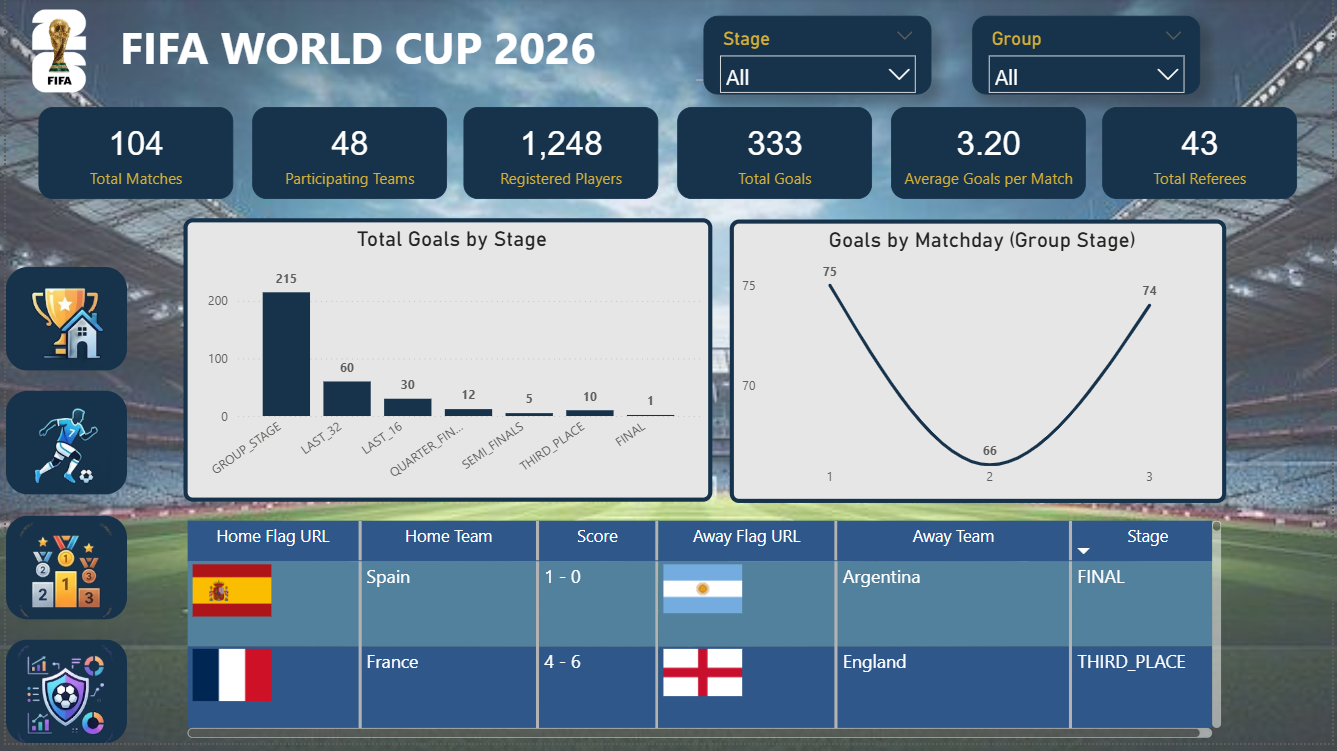

This screenshot's page, from the dashboard's own definition file:
{"tool":"powerbi","page":{"name":"Tournament Overview","canvas":[1280,720],"ordinal":1},"visuals":[{"type":"card","fields":{"Values":["My Measures.Total Matches"]},"box":[31.4,106.2,188.2,89],"z":0},{"type":"card","fields":{"Values":["My Measures.Total Goals"]},"box":[647.9,106.2,188.2,89],"z":1000},{"type":"card","fields":{"Values":["My Measures.Average Goals per Match"]},"box":[854.2,106.2,188.2,89],"z":2000},{"type":"card","fields":{"Values":["My Measures.Participating Teams"]},"box":[237.7,106.2,188.2,89],"z":3000},{"type":"card","fields":{"Values":["My Measures.Registered Players"]},"box":[441.6,106.2,188.2,89],"z":4000},{"type":"image","box":[0,12.1,102.5,79.6],"z":5000},{"type":"textbox","title":" FIFA WORLD CUP 2026","box":[0,18.1,679.2,67.6],"z":6000},{"type":"card","fields":{"Values":["My Measures.Total Referees"]},"box":[1058,106.2,188.2,89],"z":7000},{"type":"clusteredColumnChart","fields":{"Y":["My Measures.Total Goals"],"Category":["Dim_Stage.Stage"]},"box":[171.3,213.5,510.3,273.9],"z":8000},{"type":"lineChart","title":"Goals by Matchday (Group Stage)","fields":{"Category":["Fact_Matches.Match Day"],"Y":["My Measures.Total Goals"]},"box":[698.5,214.7,479,273.9],"z":9000},{"type":"tableEx","fields":{"Values":["Fact_Matches.Home Flag URL","Fact_Matches.Home Team","Fact_Matches.Score","Fact_Matches.Away Flag URL","Fact_Matches.Away Team","Dim_Stage.Stage"]},"box":[168.6,500.9,1009.2,219.1],"z":10000},{"type":"slicer","fields":{"Values":["Dim_Stage.Stage"]},"box":[673.2,18.5,220.3,76.3],"z":11000},{"type":"slicer","fields":{"Values":["standings.group"]},"box":[932.9,18.5,220.3,76.3],"z":12000},{"type":"image","box":[0,380.3,116.9,99.7],"z":13000},{"type":"image","box":[0,620.3,116.9,99.7],"z":14000},{"type":"image","box":[0,260.9,116.9,99.7],"z":15000},{"type":"image","box":[0,500.9,116.9,99.7],"z":16000}]}

Visuals, with their boxes in screenshot pixels (x1, y1, x2, y2), scaled from the page's 1280x720 canvas onto the 1337x751 screenshot:
card - My Measures.Total Matches: left=33, top=111, right=229, bottom=204
card - My Measures.Total Goals: left=677, top=111, right=873, bottom=204
card - My Measures.Average Goals per Match: left=892, top=111, right=1089, bottom=204
card - My Measures.Participating Teams: left=248, top=111, right=445, bottom=204
card - My Measures.Registered Players: left=461, top=111, right=658, bottom=204
image: left=0, top=13, right=107, bottom=96
" FIFA WORLD CUP 2026" textbox: left=0, top=19, right=709, bottom=89
card - My Measures.Total Referees: left=1105, top=111, right=1302, bottom=204
clusteredColumnChart - My Measures.Total Goals x Dim_Stage.Stage: left=179, top=223, right=712, bottom=508
"Goals by Matchday (Group Stage)" lineChart: left=730, top=224, right=1230, bottom=510
tableEx - Fact_Matches.Home Flag URL x Fact_Matches.Home Team: left=176, top=522, right=1230, bottom=750
slicer - Dim_Stage.Stage: left=703, top=19, right=933, bottom=99
slicer - standings.group: left=974, top=19, right=1205, bottom=99
image: left=0, top=397, right=122, bottom=501
image: left=0, top=647, right=122, bottom=750
image: left=0, top=272, right=122, bottom=376
image: left=0, top=522, right=122, bottom=626
